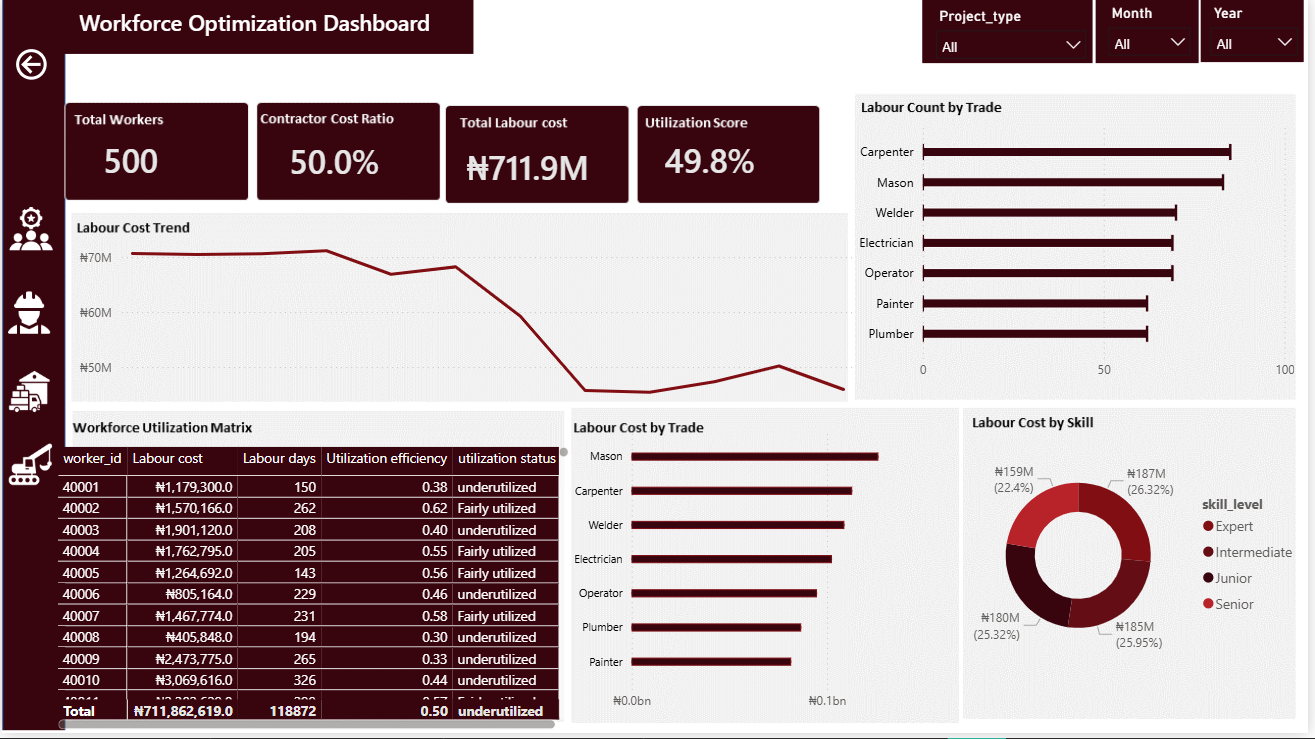

The page's visual inventory and layout, read from the dashboard file:
{"tool":"powerbi","page":{"name":"workforce _efficiency","canvas":[1280,720],"ordinal":1},"visuals":[{"type":"clusteredBarChart","fields":{"Category":["workers_dim.trade"],"Y":["measure.Labour cost"]},"box":[550,408.3,378.3,296.7],"z":0},{"type":"donutChart","fields":{"Category":["workers_dim.skill_level"],"Y":["measure.Labour cost"]},"box":[928.3,393.3,351.7,305],"z":1000},{"type":"cardVisual","fields":{"Data":["measure.Total Workers"]},"box":[70.6,113.2,125,86.8],"z":2000},{"type":"cardVisual","fields":{"Data":["measure.total labour cost"]},"box":[426.7,120,193.3,86.7],"z":3000},{"type":"cardVisual","fields":{"Data":["measure.Contractor Cost Ratio"]},"box":[253.3,115,150,86.7],"z":4000},{"type":"cardVisual","fields":{"Data":["measure.Utilization efficiency"]},"box":[620.9,113.4,164.2,86.6],"z":5000},{"type":"lineChart","fields":{"Category":["Date.Month Number","Date.Year"],"Y":["measure.total labour cost"]},"box":[61.2,235.8,768.7,182.1],"z":6000},{"type":"pivotTable","fields":{"Rows":["workers_dim.worker_id"],"Values":["measure.total labour cost","measure.total labour days","measure.Utilization efficiency","measure.utilization status"]},"box":[50,433.8,510.3,286.8],"z":7000},{"type":"textbox","box":[70.6,2.9,430.9,41.2],"z":8000},{"type":"slicer","fields":{"Values":["Date.Year"]},"box":[1175,0,105,56.7],"z":9000},{"type":"slicer","fields":{"Values":["Date.Month Number"]},"box":[1075,0,100,56.7],"z":10000},{"type":"slicer","fields":{"Values":["project_dim.project_type"]},"box":[905.3,3.5,166.7,56.1],"z":11000},{"type":"barChart","fields":{"Category":["workers_dim.trade"],"Y":["measure.Total Workers"]},"box":[829.4,113.2,442.6,267.6],"z":12000},{"type":"actionButton","box":[8.6,44.3,42.9,40],"z":13000},{"type":"image","box":[3.5,261.4,47.4,91.2],"z":14000},{"type":"image","box":[5.3,408.8,43.9,94.7],"z":15000},{"type":"image","box":[5.3,350.9,42.1,66.7],"z":16000},{"type":"image","box":[5.3,184.2,45.6,82.5],"z":17000}]}

Visuals, with their boxes on the page's 1280x720 design canvas (x1, y1, x2, y2). These are canvas units, not pixel positions in the 1315x739 screenshot, which may show the page scaled, cropped or inside an application window:
clusteredBarChart - workers_dim.trade x measure.Labour cost: bbox=[550, 408, 928, 705]
donutChart - workers_dim.skill_level x measure.Labour cost: bbox=[928, 393, 1280, 698]
cardVisual - measure.Total Workers: bbox=[71, 113, 196, 200]
cardVisual - measure.total labour cost: bbox=[427, 120, 620, 207]
cardVisual - measure.Contractor Cost Ratio: bbox=[253, 115, 403, 202]
cardVisual - measure.Utilization efficiency: bbox=[621, 113, 785, 200]
lineChart - Date.Month Number x Date.Year: bbox=[61, 236, 830, 418]
pivotTable - workers_dim.worker_id x measure.total labour cost: bbox=[50, 434, 560, 721]
textbox: bbox=[71, 3, 502, 44]
slicer - Date.Year: bbox=[1175, 0, 1280, 57]
slicer - Date.Month Number: bbox=[1075, 0, 1175, 57]
slicer - project_dim.project_type: bbox=[905, 4, 1072, 60]
barChart - workers_dim.trade x measure.Total Workers: bbox=[829, 113, 1272, 381]
actionButton: bbox=[9, 44, 52, 84]
image: bbox=[4, 261, 51, 353]
image: bbox=[5, 409, 49, 504]
image: bbox=[5, 351, 47, 418]
image: bbox=[5, 184, 51, 267]
